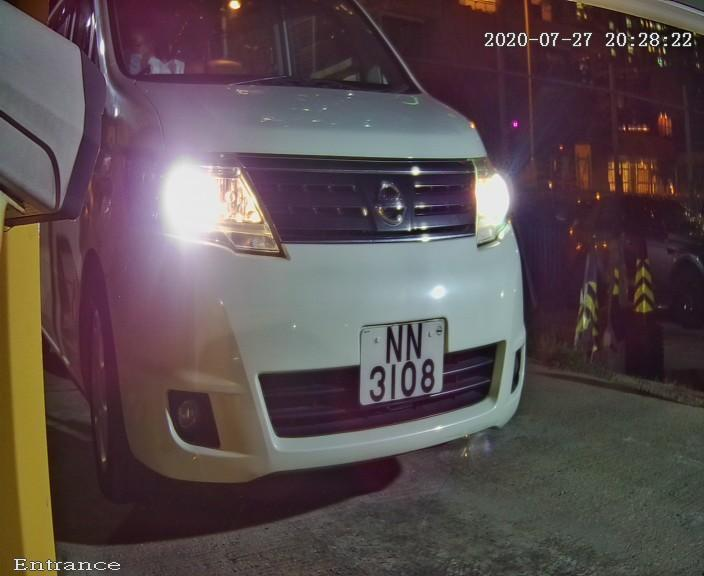privatecar: (73, 6, 554, 533)
